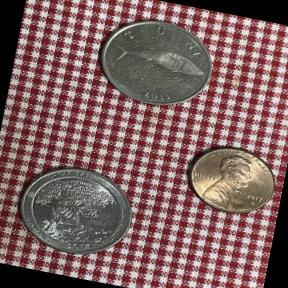Croatia-2Kune-B: (83, 2, 227, 122)
US-1cent-B: (174, 134, 286, 224)
US-25cent-B: (4, 152, 144, 268)
